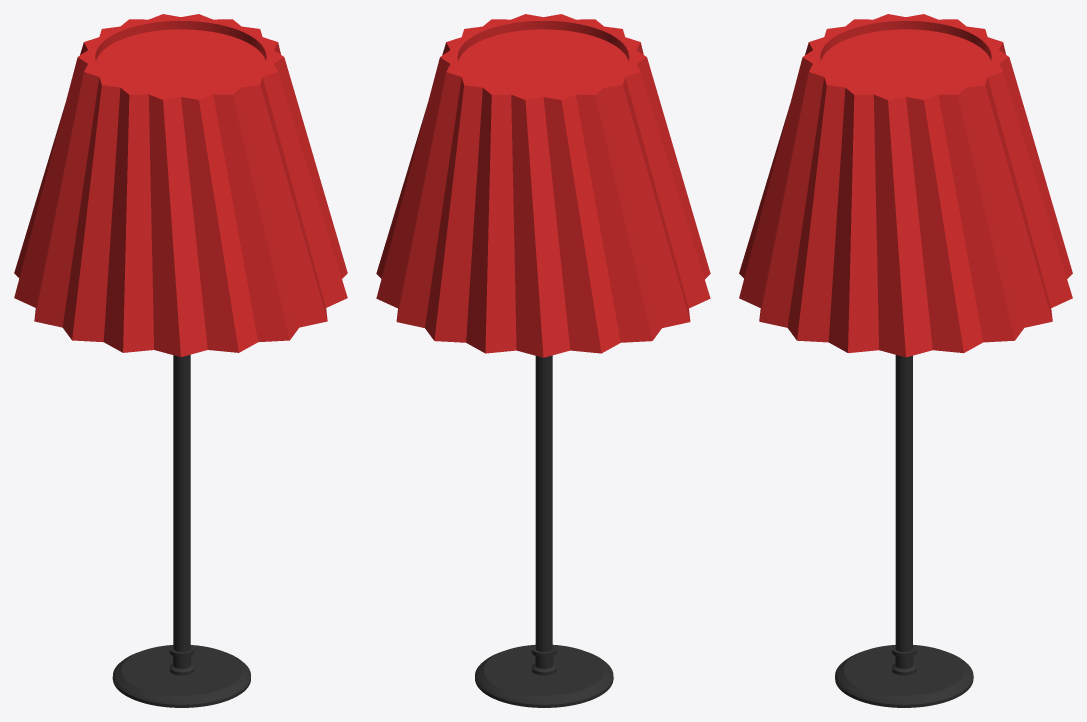
The picture shows the model from 3 angles, left to right: view 1: azimuth 30°, elevation 25°; view 2: azimuth 150°, elevation 25°; view 3: azimuth 270°, elevation 25°; orthographic projection.
Parts seen in each view (by area): view 1: floor_lamp; view 2: floor_lamp; view 3: floor_lamp.
Boxes of the visible parts, <box> form: floor_lamp: <box>14,14,347,707</box>; floor_lamp: <box>376,14,710,707</box>; floor_lamp: <box>739,14,1072,707</box>.
Size of the model in its own units: 0.791 by 1.6 by 0.779.
